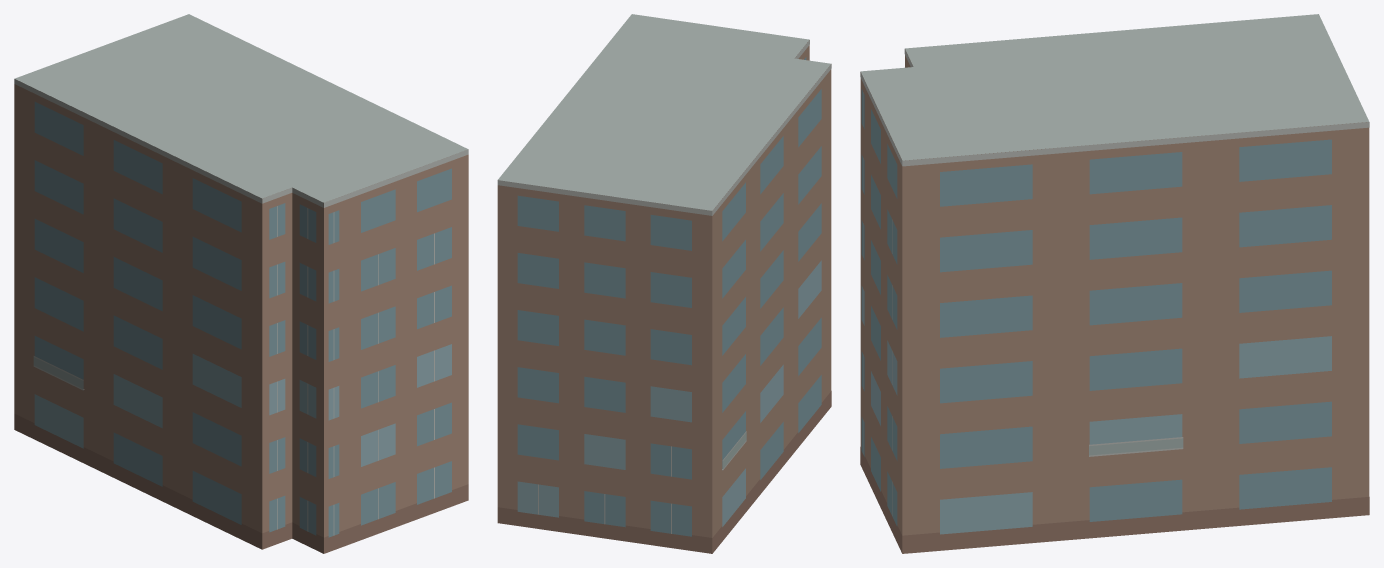
The model's file is survey-upis-33018746.glb.
3 renders of one model, left to right at view 1: azimuth 30°, elevation 25°; view 2: azimuth 150°, elevation 25°; view 3: azimuth 270°, elevation 25°, orthographic. The views are drawn at different scales.
Visible parts, largest first — view 1: survey-upis-33018746.tmp; view 2: survey-upis-33018746.tmp; view 3: survey-upis-33018746.tmp.
Part boxes in pixels (box(x1,y1,x2,y2)): survey-upis-33018746.tmp: box(14, 14, 468, 553); survey-upis-33018746.tmp: box(497, 14, 831, 553); survey-upis-33018746.tmp: box(860, 14, 1369, 553).
Size of the model in its own units: 13.21 by 16.5 by 19.37.
